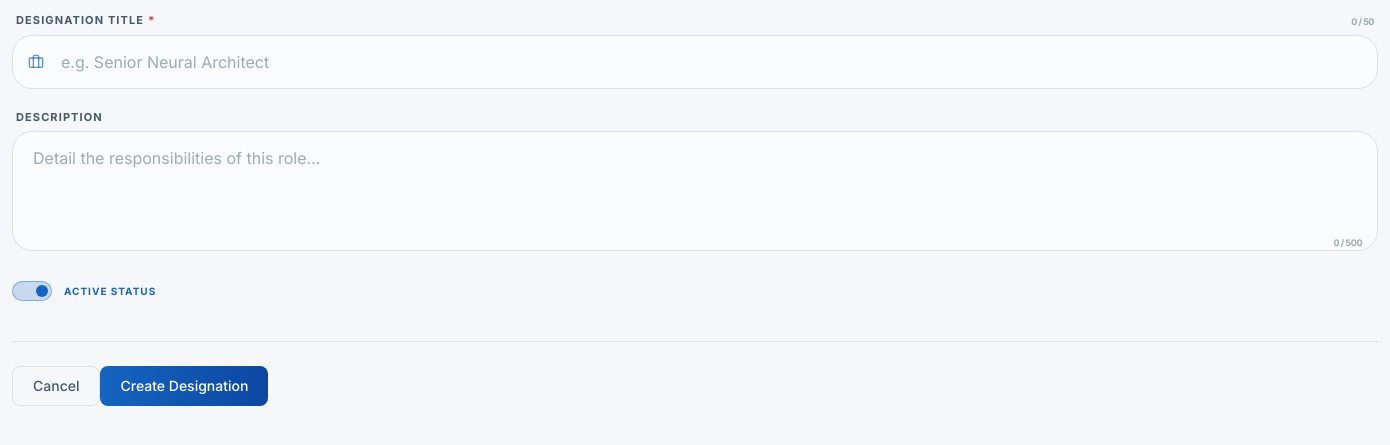
it: DesignationForm Component › shows validation error when title is empty
The image size is (1390, 445).
Click the button "Create Designation". click: [184, 386]
box: [100, 366, 268, 406]
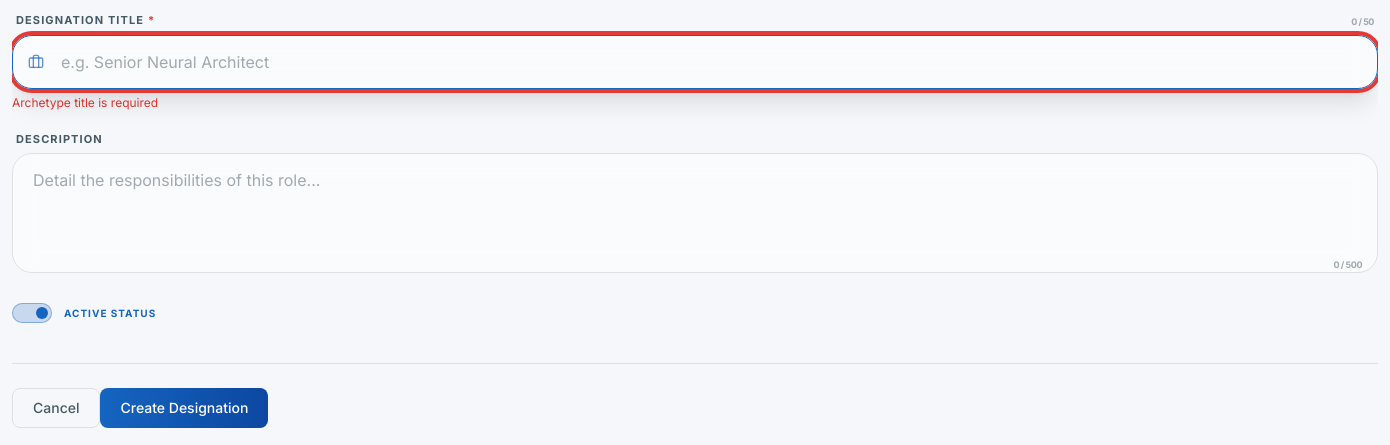
Now the text "Archetype title is required" is shown, box [12, 94, 158, 110]
